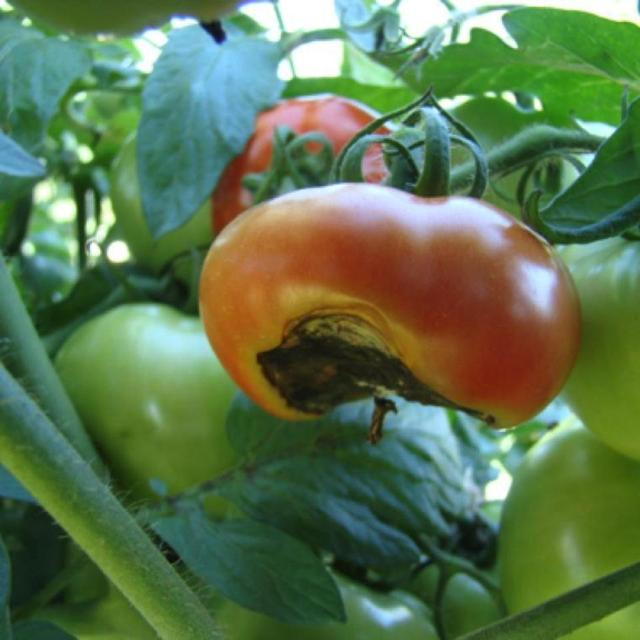Healthy Fruit: (146, 57, 274, 141)
